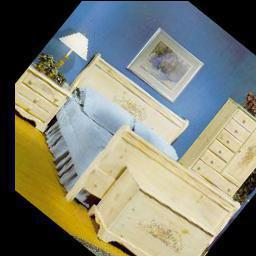Armario: (186, 104, 256, 199)
